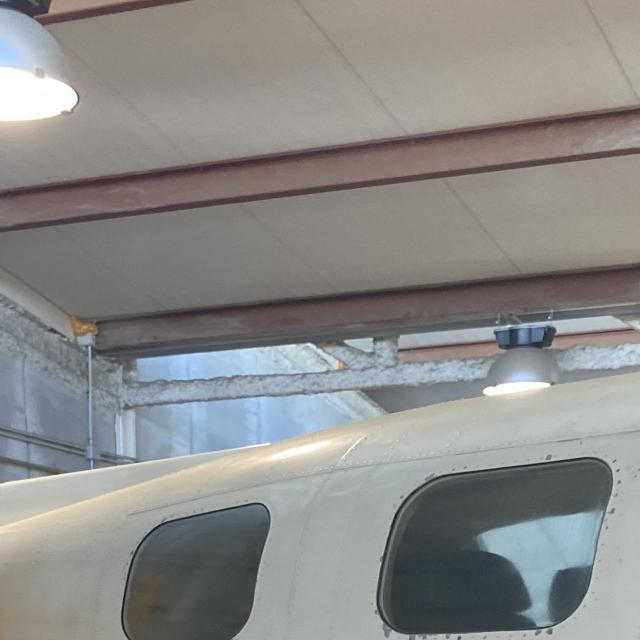Paint-off: (380, 617, 397, 639), (403, 632, 441, 640), (608, 503, 620, 519), (425, 473, 439, 483), (544, 453, 556, 462), (372, 607, 381, 617), (229, 637, 235, 640)
